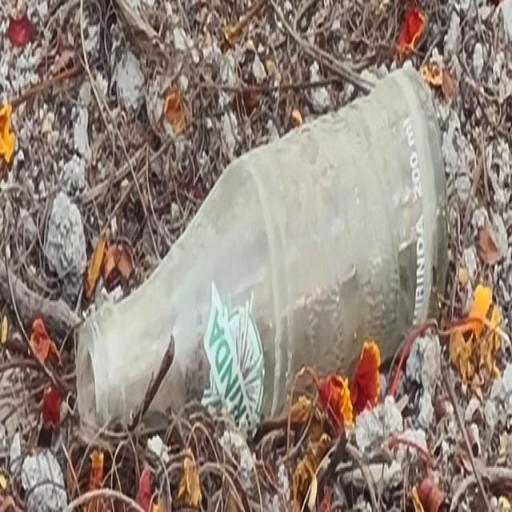glass: (74, 54, 453, 472)
